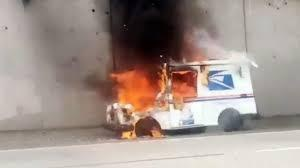fire: (104, 61, 187, 143)
